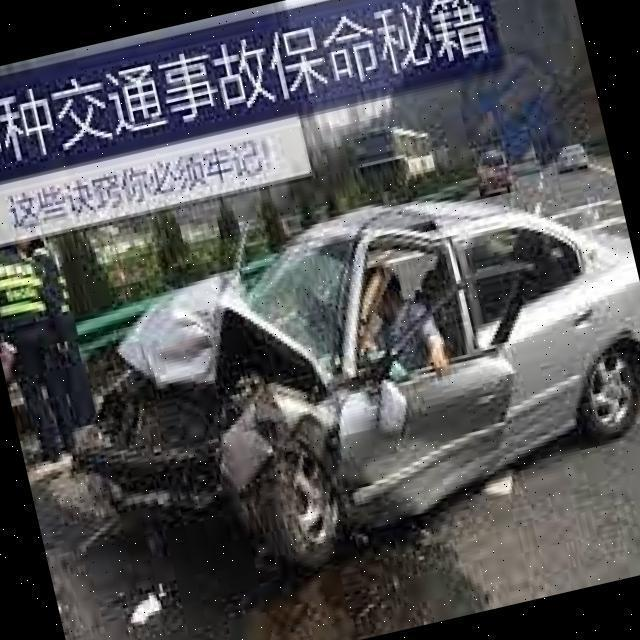accident: (27, 132, 640, 623)
